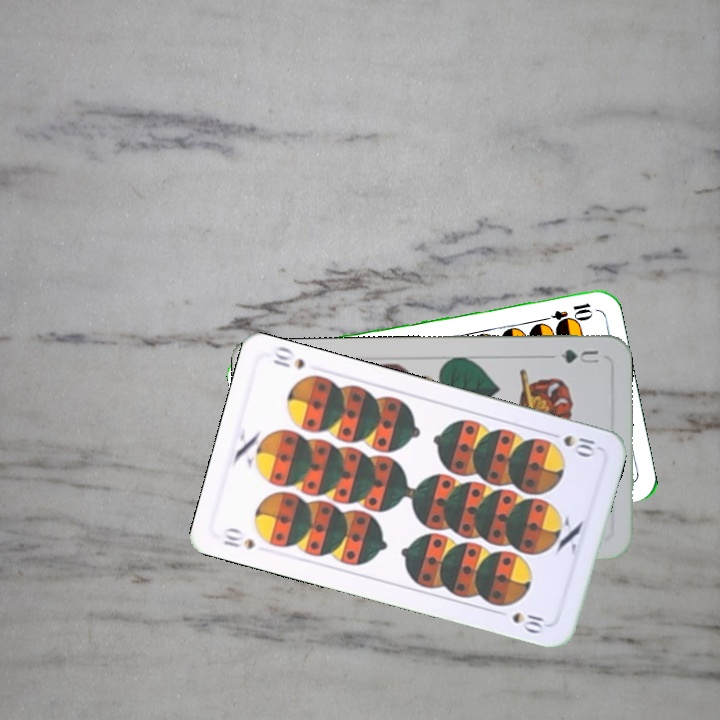E10: (536, 298, 595, 326)
GU: (556, 345, 603, 367)
S10: (544, 428, 601, 460), (219, 524, 258, 552)
